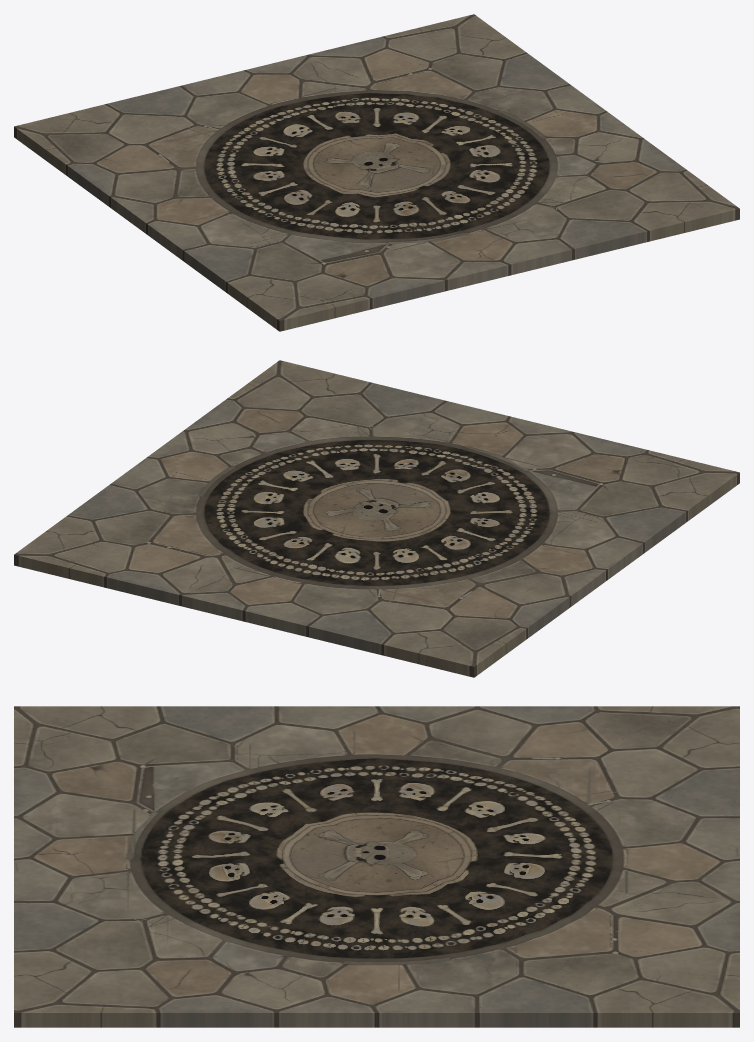
The model's file is catacomb_floor_c.glb.
The picture shows the model from 3 angles, top to bottom: view 1: azimuth 30°, elevation 25°; view 2: azimuth 150°, elevation 25°; view 3: azimuth 270°, elevation 25°; orthographic projection. The views are drawn at different scales.
Visible parts, largest first — view 1: catacomb_floor_c; view 2: catacomb_floor_c; view 3: catacomb_floor_c.
Part boxes in pixels (x1=…): catacomb_floor_c: x1=14, y1=14, x2=739, y2=331; catacomb_floor_c: x1=14, y1=360, x2=739, y2=677; catacomb_floor_c: x1=14, y1=706, x2=739, y2=1027.
Bounding box in the file's own units: 4 × 0.135 × 4.
1 material, 1 textured.
